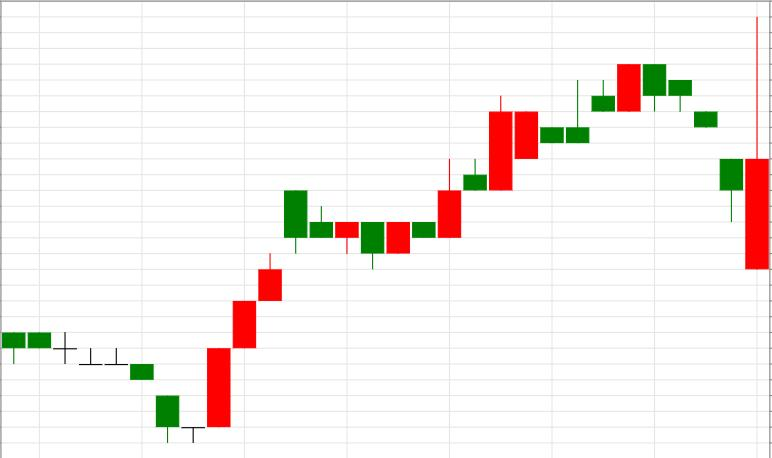bullish_engulfing_rise: (643, 18, 769, 269)
morning_star_rise: (3, 332, 231, 443)
three_white_soldiers_rise: (3, 252, 281, 444)
